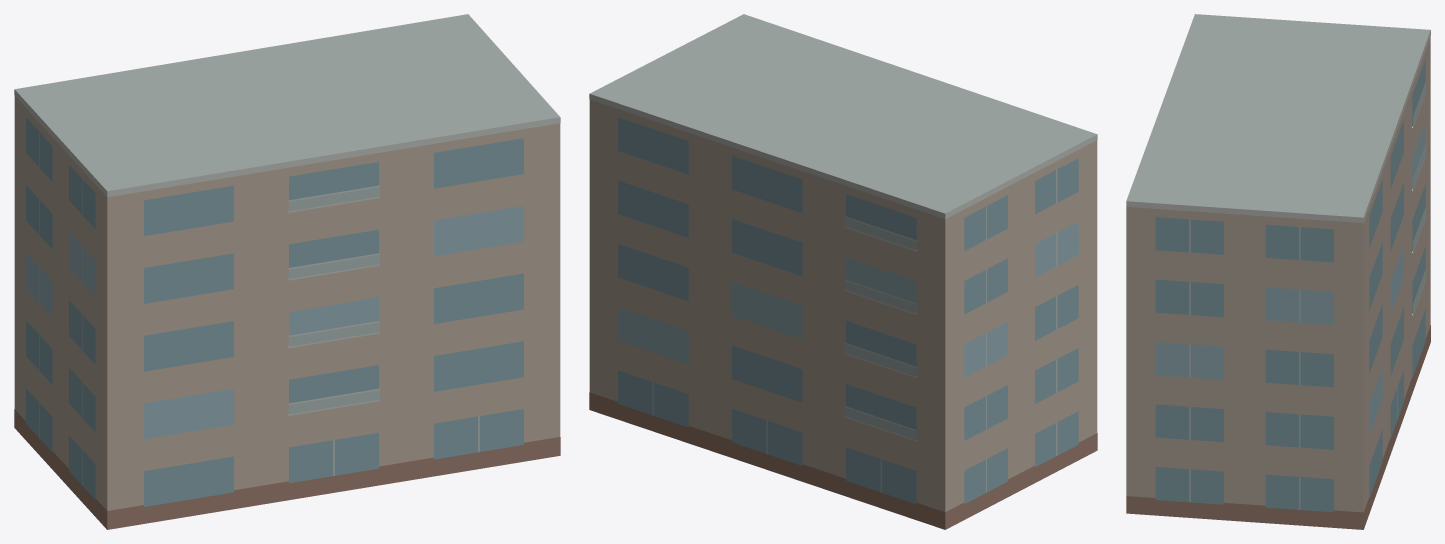
The model's file is survey-upis-32740491.glb.
3 views of the same model, side by side, from view 1: azimuth 30°, elevation 25°; view 2: azimuth 150°, elevation 25°; view 3: azimuth 270°, elevation 25° (orthographic). The views are drawn at different scales.
Visible parts, largest first — view 1: survey-upis-32740491.tmp; view 2: survey-upis-32740491.tmp; view 3: survey-upis-32740491.tmp.
Part boxes in pixels (x1,y1,x2,y2): survey-upis-32740491.tmp: [14, 14, 560, 529]; survey-upis-32740491.tmp: [589, 14, 1097, 529]; survey-upis-32740491.tmp: [1126, 14, 1430, 529].
Bounding box in the file's own units: 19.1 × 13.65 × 12.08.
